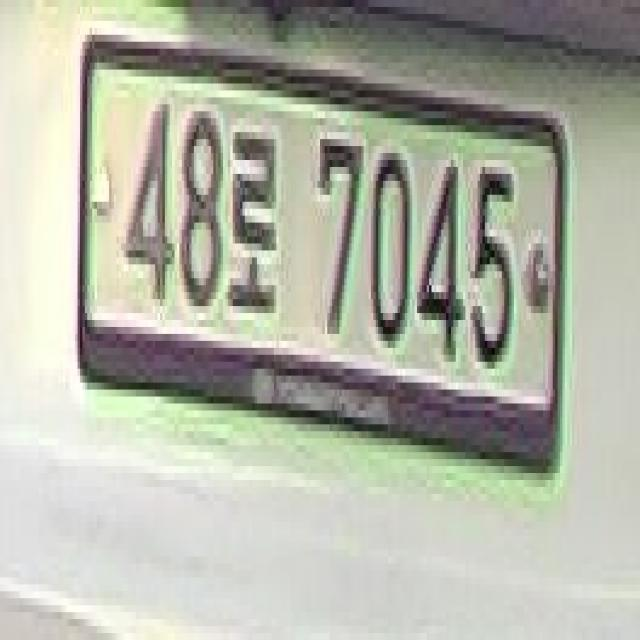0: (367, 138, 412, 349)
4: (122, 86, 174, 322), (413, 147, 467, 373)
5: (471, 158, 517, 376)
7: (314, 121, 364, 353)
8: (180, 90, 225, 319)
license_plate: (66, 11, 580, 509)
lo: (228, 114, 284, 326)
